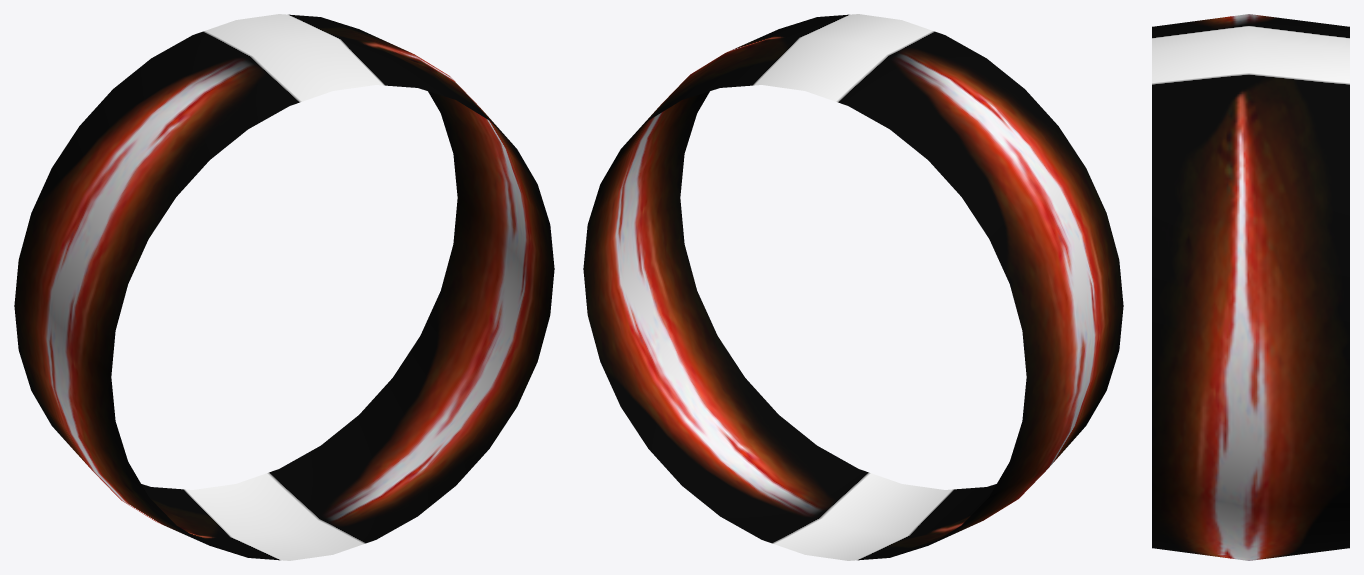
3 views of the same model, side by side, from view 1: azimuth 30°, elevation 25°; view 2: azimuth 150°, elevation 25°; view 3: azimuth 270°, elevation 25° (orthographic).
Parts seen in each view (by area): view 1: Sphere001; view 2: Sphere001; view 3: Sphere001.
Boxes of the visible parts, bbox=[...] form: Sphere001: bbox=[14, 14, 554, 560]; Sphere001: bbox=[583, 14, 1123, 560]; Sphere001: bbox=[1152, 14, 1349, 560].
Size of the model in its own units: 58.07 by 58.07 by 20.97.
